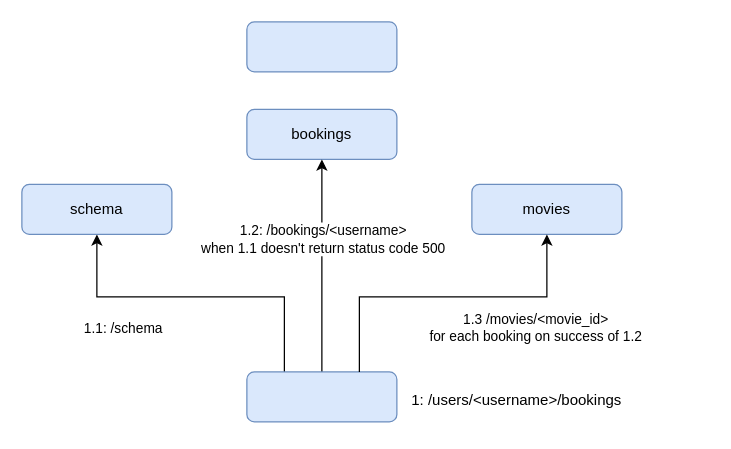
Image size: 731x449. Some labels were removed from this diagram. The box of each missing label's shape, as (x1, y1, x2, y2) in pixels:
showtimes: (246, 21, 397, 72)
users: (246, 371, 397, 422)
